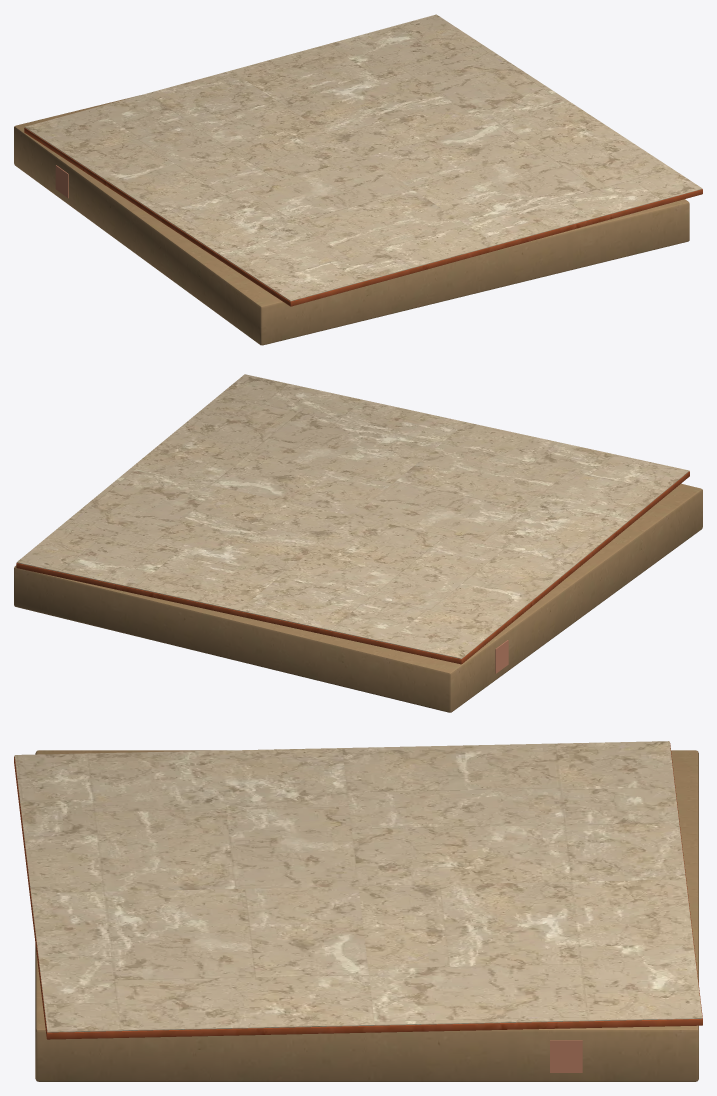
File: PIS-CER-002.glb
3 views of the same model, one above another, from view 1: azimuth 30°, elevation 25°; view 2: azimuth 150°, elevation 25°; view 3: azimuth 270°, elevation 25° (orthographic). The views are drawn at different scales.
Visible parts, largest first — view 1: PIS-CER-002_face, PIS-CER-002_caixa, PIS-CER-002_corpo; view 2: PIS-CER-002_face, PIS-CER-002_caixa, PIS-CER-002_corpo; view 3: PIS-CER-002_face, PIS-CER-002_caixa, PIS-CER-002_corpo, PIS-CER-002_faixa.
Part boxes in pixels (<box>): PIS-CER-002_face: <box>24,14,702,301</box>; PIS-CER-002_caixa: <box>14,95,689,345</box>; PIS-CER-002_corpo: <box>24,128,702,306</box>; PIS-CER-002_face: <box>17,374,689,659</box>; PIS-CER-002_caixa: <box>14,483,702,712</box>; PIS-CER-002_corpo: <box>16,471,689,664</box>; PIS-CER-002_face: <box>14,741,702,1032</box>; PIS-CER-002_caixa: <box>35,750,698,1081</box>; PIS-CER-002_corpo: <box>14,743,702,1039</box>; PIS-CER-002_faixa: <box>550,1040,582,1072</box>.
Bounding box in the file's own units: 0.6306 × 0.0626 × 0.6292.
Materials: 6 (4 with a texture image).
